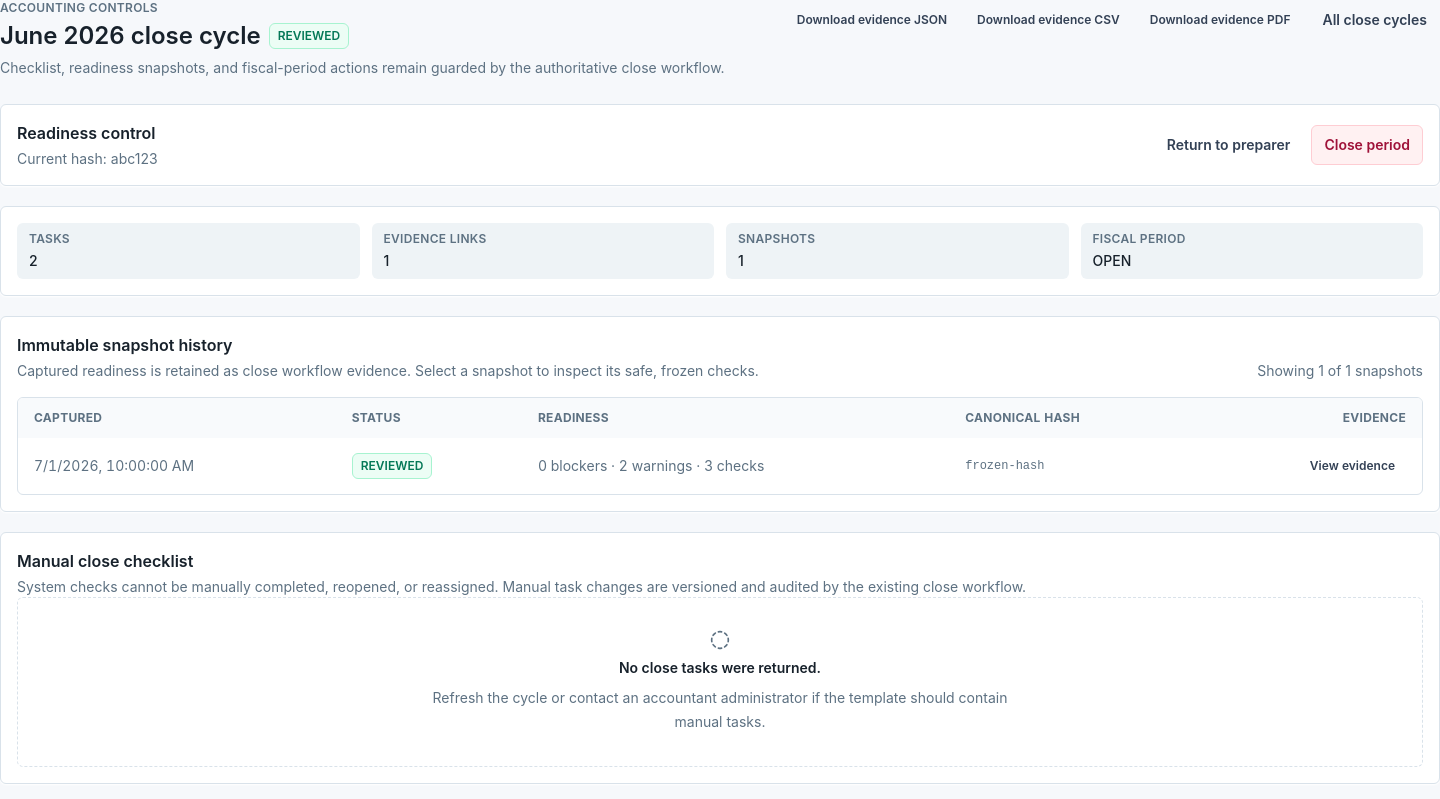
accountant close cycle detail › loads immutable snapshot history and fetches selected safe snapshot evidence on demand
Expected: the heading "Immutable snapshot history" is shown, [17,335,232,355]
Expected: the text "frozen-hash" is shown, [949,438,1192,494]
Click the button named "View snapshot evidence: REVIEWED captured 2026-07-01T10:00:00.000Z frozen-h": point(1352, 466) [1299,450,1406,482]
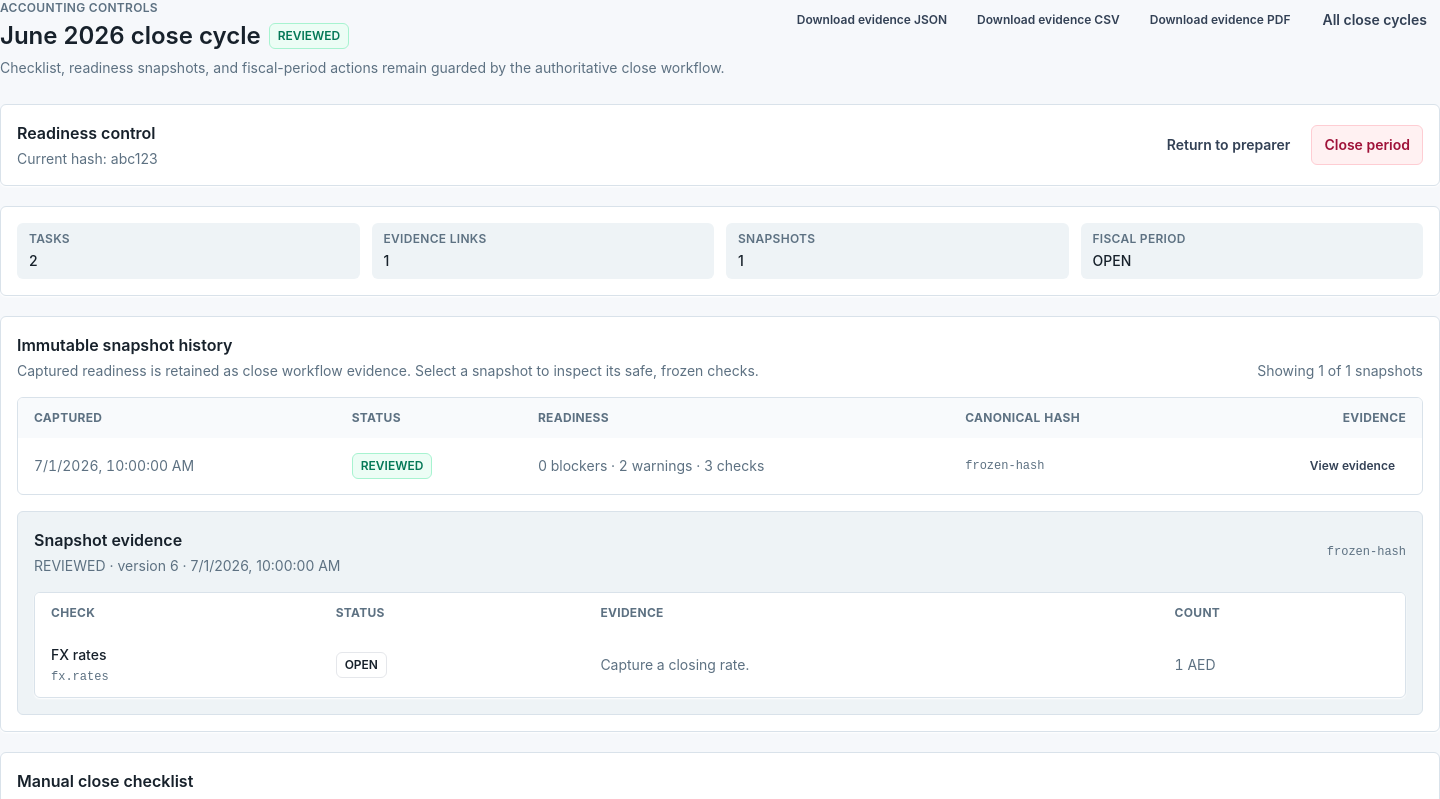
Expected: the text "Capture a closing rate." is shown, [584,633,1159,697]
Expected: the text "FX rates" is shown, [51,646,106,663]
